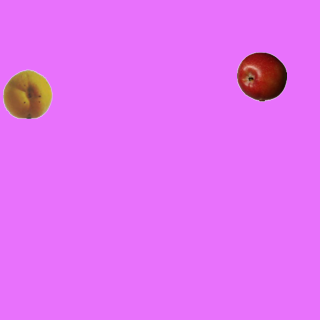Apple Braeburn: (236, 51, 286, 101)
Peach 2: (2, 68, 52, 118)
